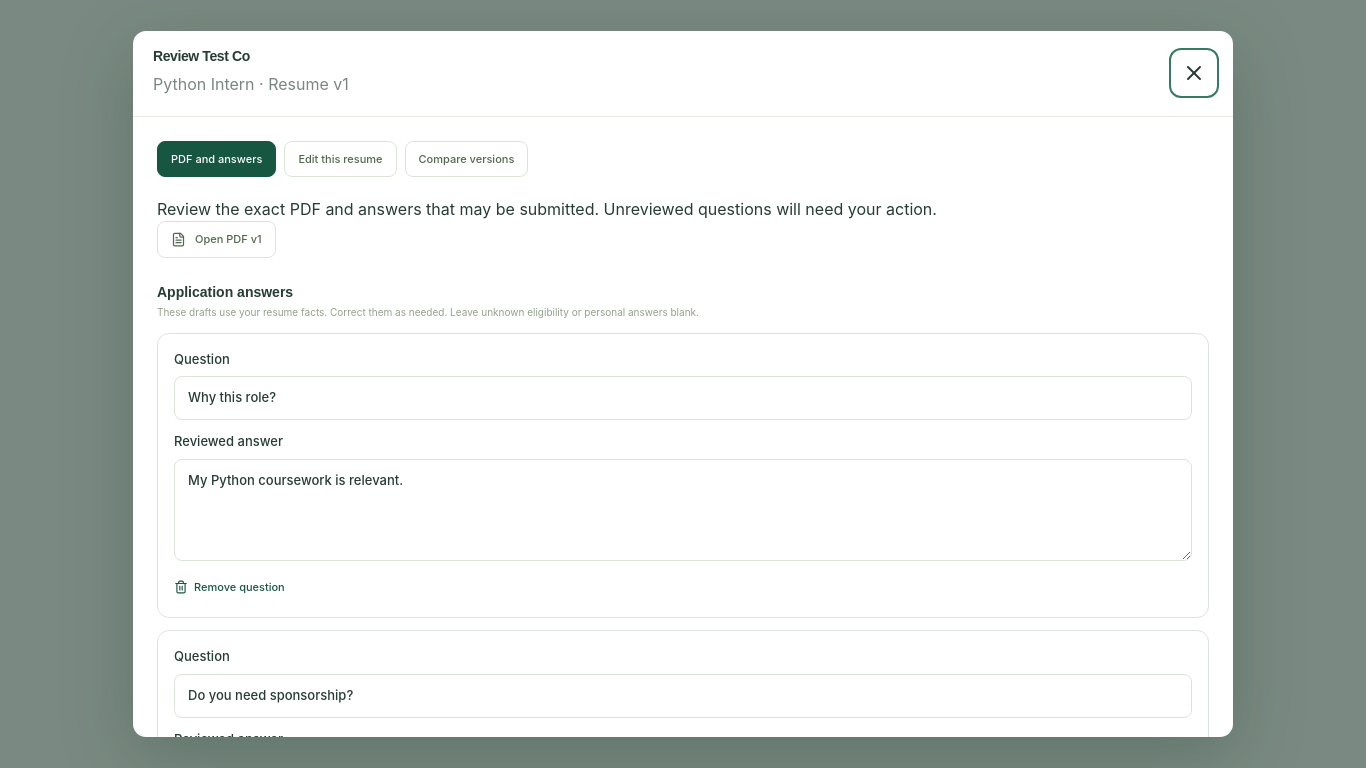
Scenario: exact PDF and answer review › saves a new immutable version and requires review of that new PDF
Click the button "Edit this resume" at (340, 159), box [284,141,397,177]
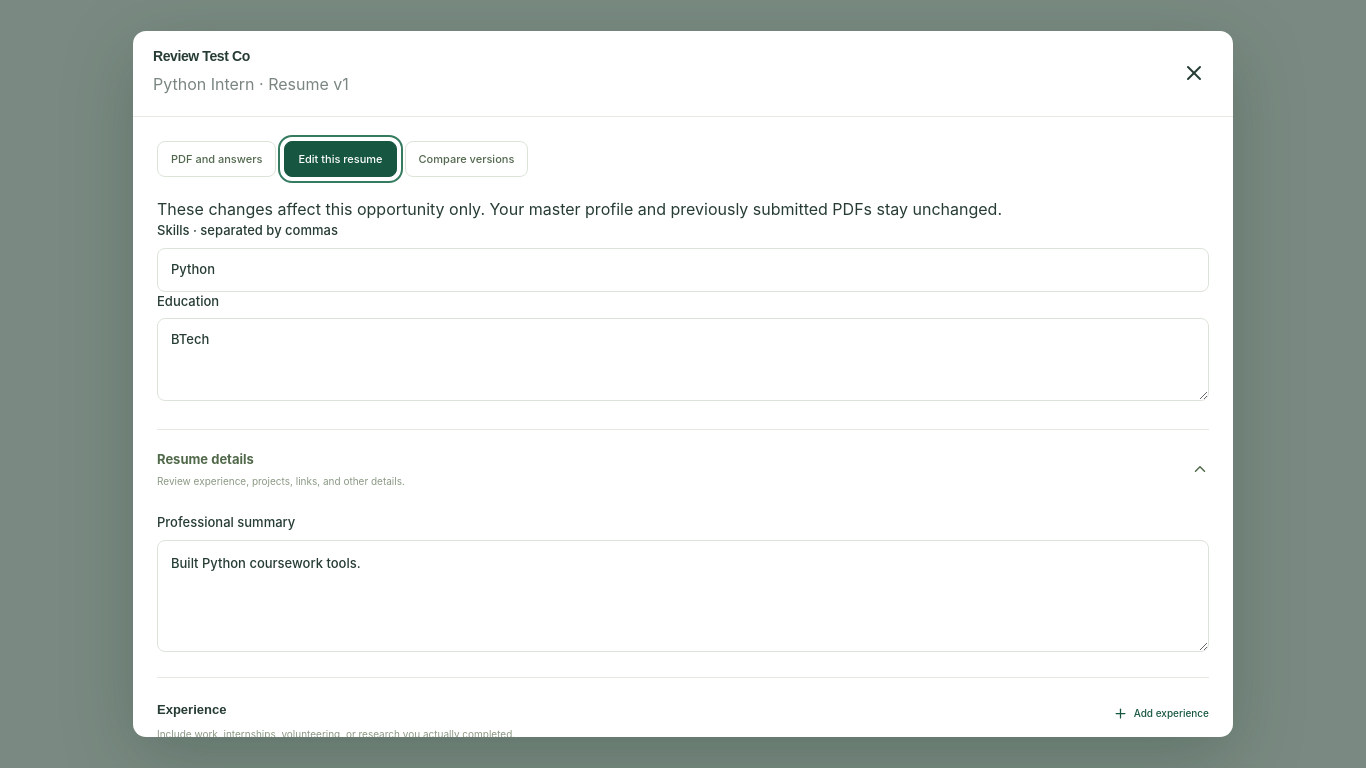
Replace the text in the text box labelled "Professional summary" with "Built a documented Python planner." at (683, 596), box [157,540,1209,652]
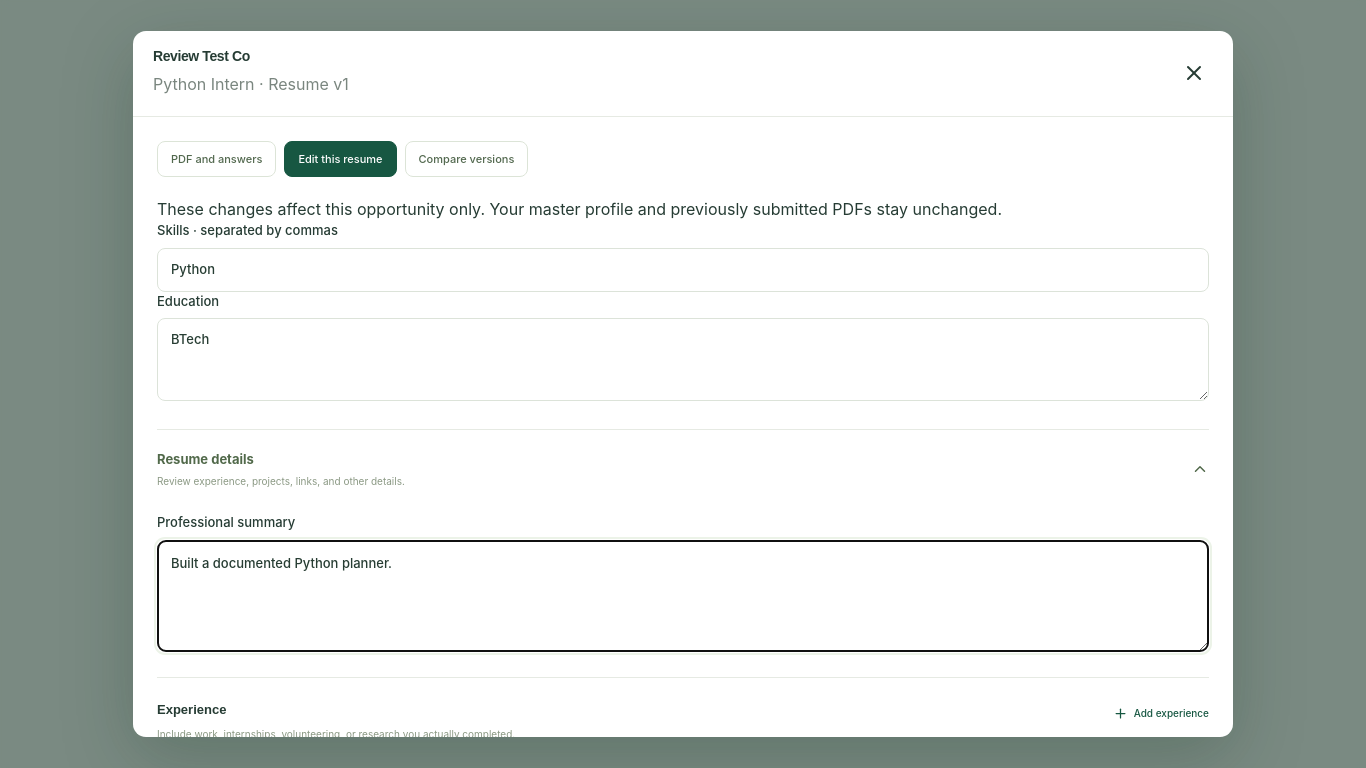
Click the button "Compare versions" at (466, 159), box [404,141,528,177]
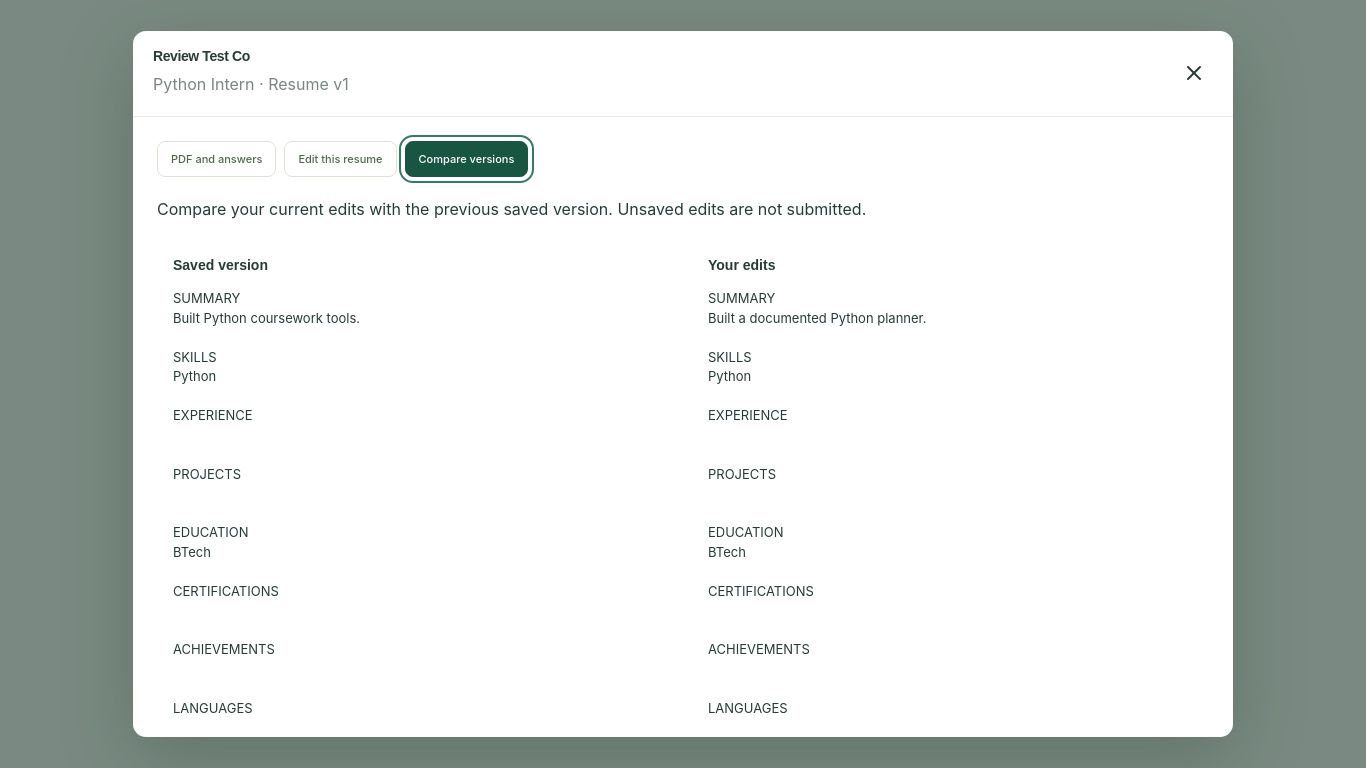
Now the heading "Your edits" is shown, box [708,257,775,273]
Now the heading "Saved version" is shown, box [173,257,268,273]
Click the button "Edit this resume" at (340, 159), box [284,141,397,177]
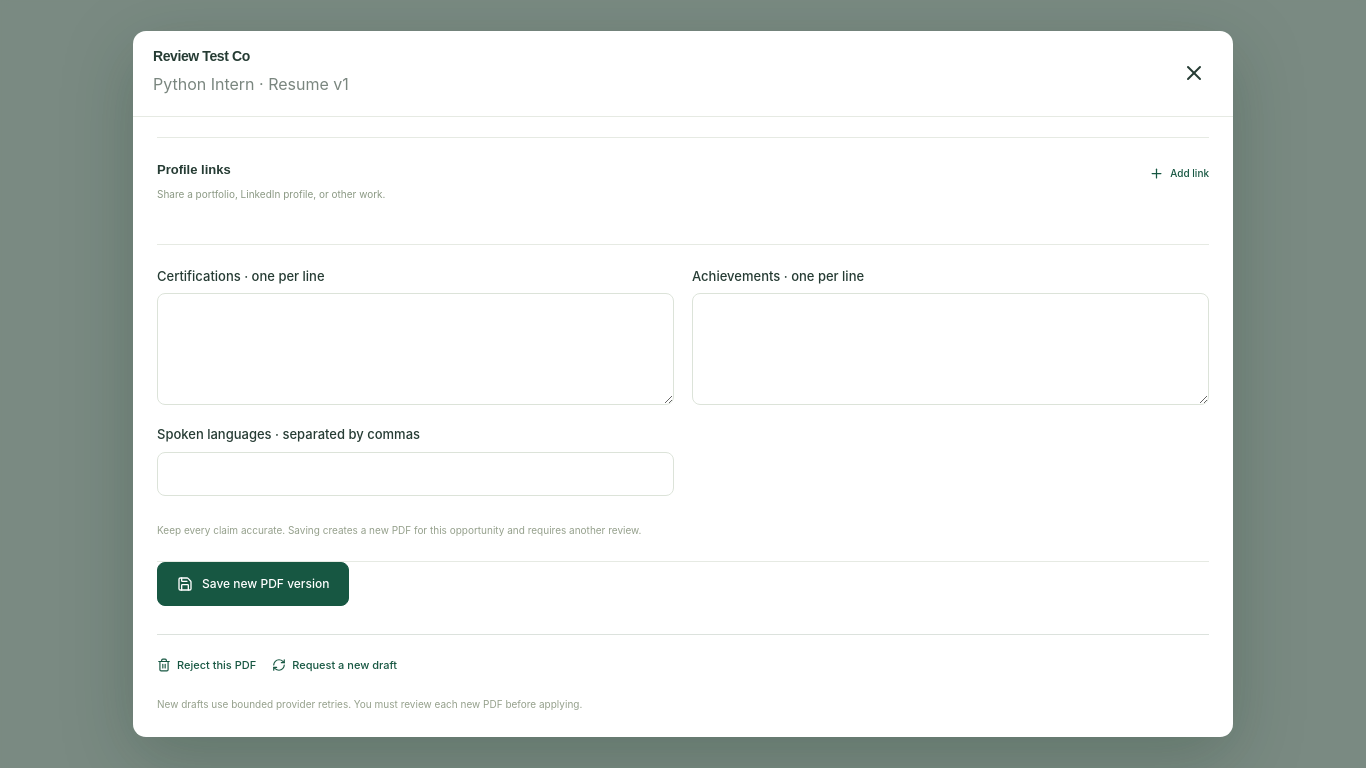
Click the button "Save new PDF version" at (253, 584), box [157,562,350,606]
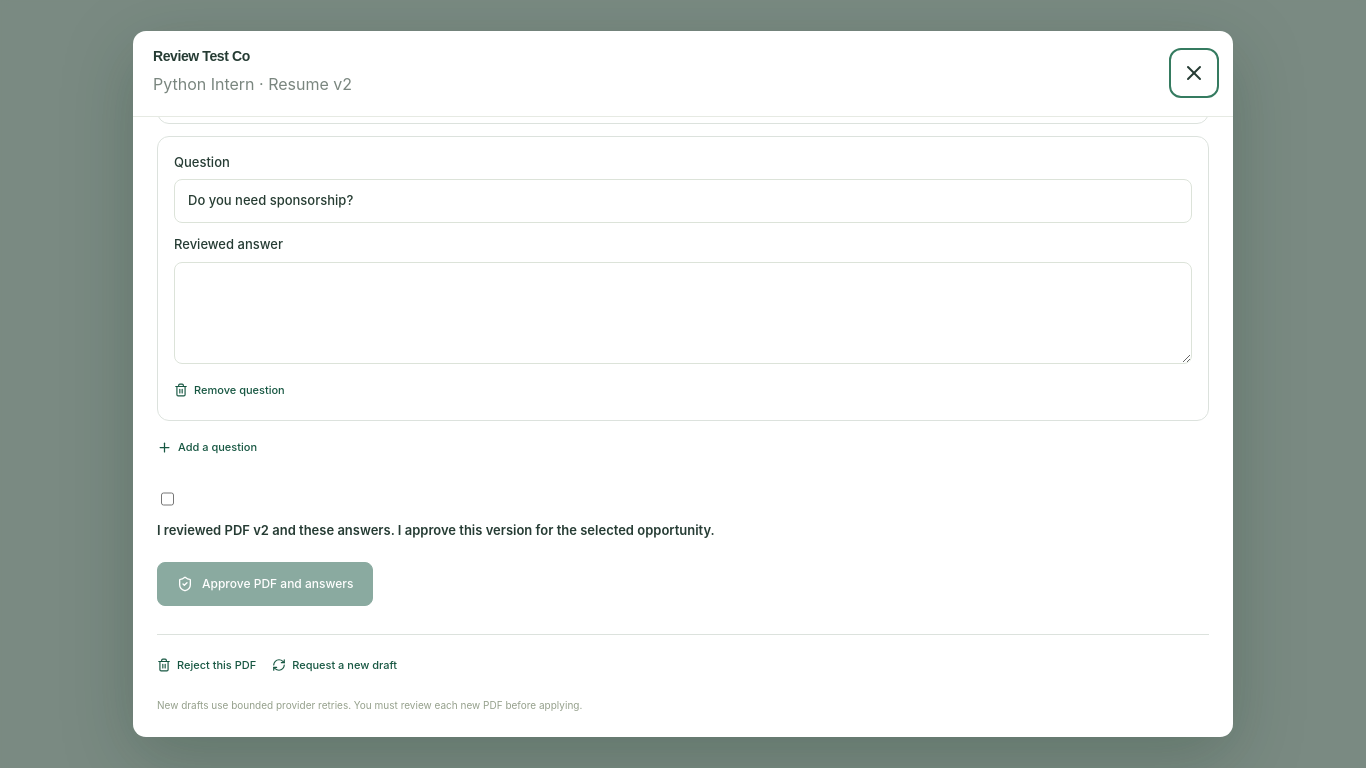
Now the checkbox labelled "I reviewed PDF v2" is not checked, box [161,490,174,508]
Now the button "Approve PDF and answers" is disabled, box [157,562,373,606]
